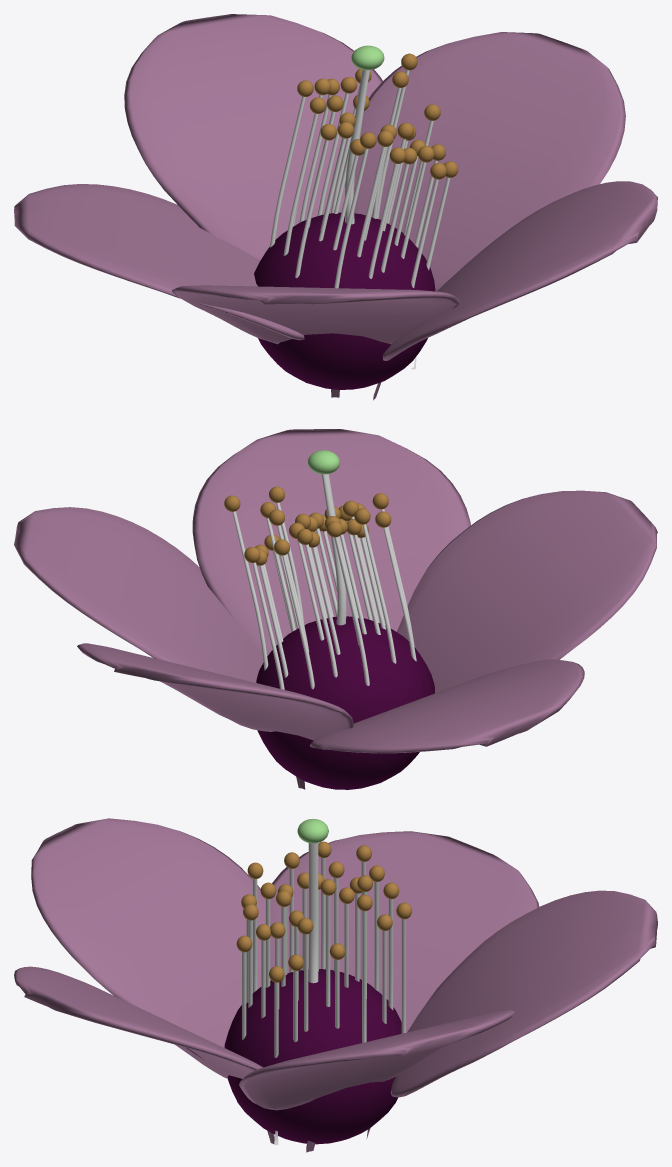
File: cherry flower.fbx
3 renders of one model, top to bottom at view 1: azimuth 30°, elevation 25°; view 2: azimuth 150°, elevation 25°; view 3: azimuth 270°, elevation 25°, orthographic. The views are drawn at different scales.
Visible parts, largest first — view 1: pCube2, pCube1, pCube5, pCube3, pSphere1, pCube4, pCylinder2, pCylinder10, pCylinder13, pCylinder20, pCylinder16, pSphere3; view 2: pCube4, pCube3, pCube2, pSphere1, pCube5, pCube1, pCylinder2, pCylinder19, pCylinder10, pCylinder13, pCylinder7, pCylinder12 (+4 smaller); view 3: pCube4, pCube5, pCube1, pSphere1, pCube2, pCube3, pCylinder2, pCylinder19, pSphere3, pCylinder7, pCylinder8, pCylinder1 (+3 smaller).
Part boxes in pixels (bbox=[...]): pCube2: bbox=[345, 32, 625, 291]; pCube1: bbox=[124, 14, 382, 260]; pCube5: bbox=[14, 184, 304, 340]; pCube3: bbox=[373, 181, 657, 400]; pSphere1: bbox=[254, 212, 435, 389]; pCube4: bbox=[172, 285, 460, 397]; pCylinder2: bbox=[344, 70, 369, 224]; pCylinder10: bbox=[270, 96, 305, 247]; pCylinder13: bbox=[283, 113, 318, 255]; pCylinder20: bbox=[334, 148, 368, 288]; pCylinder16: bbox=[295, 140, 328, 278]; pSphere3: bbox=[351, 45, 384, 70]; pCube4: bbox=[397, 490, 657, 693]; pCube3: bbox=[192, 429, 470, 657]; pCube2: bbox=[14, 507, 263, 682]; pSphere1: bbox=[256, 616, 434, 789]; pCube5: bbox=[310, 659, 584, 753]; pCube1: bbox=[77, 643, 353, 789]; pCylinder2: bbox=[321, 474, 346, 625]; pCylinder19: bbox=[232, 511, 268, 670]; pCylinder10: bbox=[335, 537, 369, 685]; pCylinder13: bbox=[362, 524, 396, 663]; pCylinder7: bbox=[282, 555, 314, 689]; pCylinder12: bbox=[305, 544, 337, 677]; pCube4: bbox=[31, 818, 270, 1059]; pCube5: bbox=[265, 831, 539, 1032]; pCube1: bbox=[366, 890, 657, 1138]; pSphere1: bbox=[224, 969, 401, 1144]; pCube2: bbox=[239, 1010, 516, 1152]; pCube3: bbox=[14, 966, 274, 1143]; pCylinder2: bbox=[308, 843, 318, 983]; pCylinder19: bbox=[362, 911, 366, 1042]; pSphere3: bbox=[297, 818, 328, 843]; pCylinder7: bbox=[388, 899, 393, 1010]; pCylinder8: bbox=[401, 919, 405, 1033]; pCylinder1: bbox=[326, 895, 330, 1006].
Bounding box in the file's own units: 7.38 × 4.2 × 7.44.
